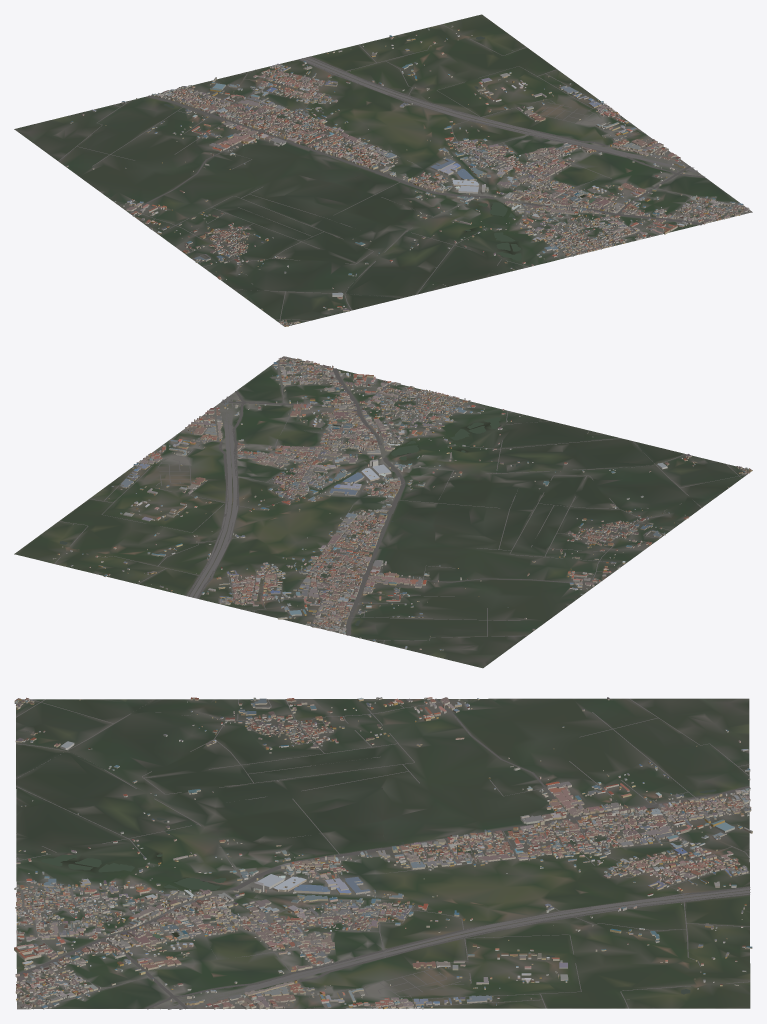
3 renders of one model, top to bottom at view 1: azimuth 30°, elevation 25°; view 2: azimuth 150°, elevation 25°; view 3: azimuth 270°, elevation 25°, orthographic. The views are drawn at different scales.
Visible parts, largest first — view 1: ground, buildings, roads, water; view 2: ground, buildings, roads, water; view 3: ground, buildings, roads, water.
Boxes of the visible parts, x1,y1,x2,y2 form: ground: [14, 14, 752, 326]; buildings: [66, 25, 750, 326]; roads: [58, 24, 747, 325]; water: [121, 36, 594, 265]; ground: [14, 356, 752, 668]; buildings: [52, 357, 752, 650]; roads: [54, 358, 749, 643]; water: [59, 417, 652, 625]; ground: [16, 698, 750, 1009]; buildings: [14, 697, 752, 1009]; roads: [16, 698, 750, 1009]; water: [26, 706, 716, 994].
Bounding box in the file's own units: 2818 × 32.59 × 2825.
